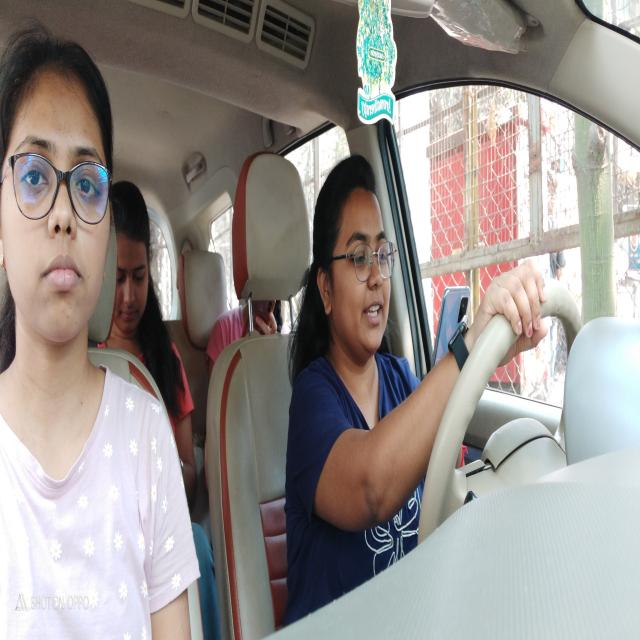mobile: (432, 286, 470, 366)
person: (1, 32, 116, 346), (307, 155, 398, 362), (114, 174, 158, 337)
